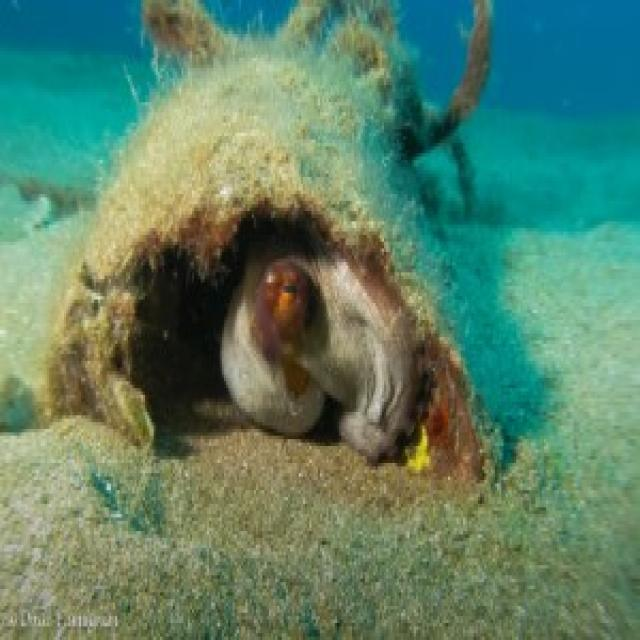Octo: (212, 194, 444, 444)
